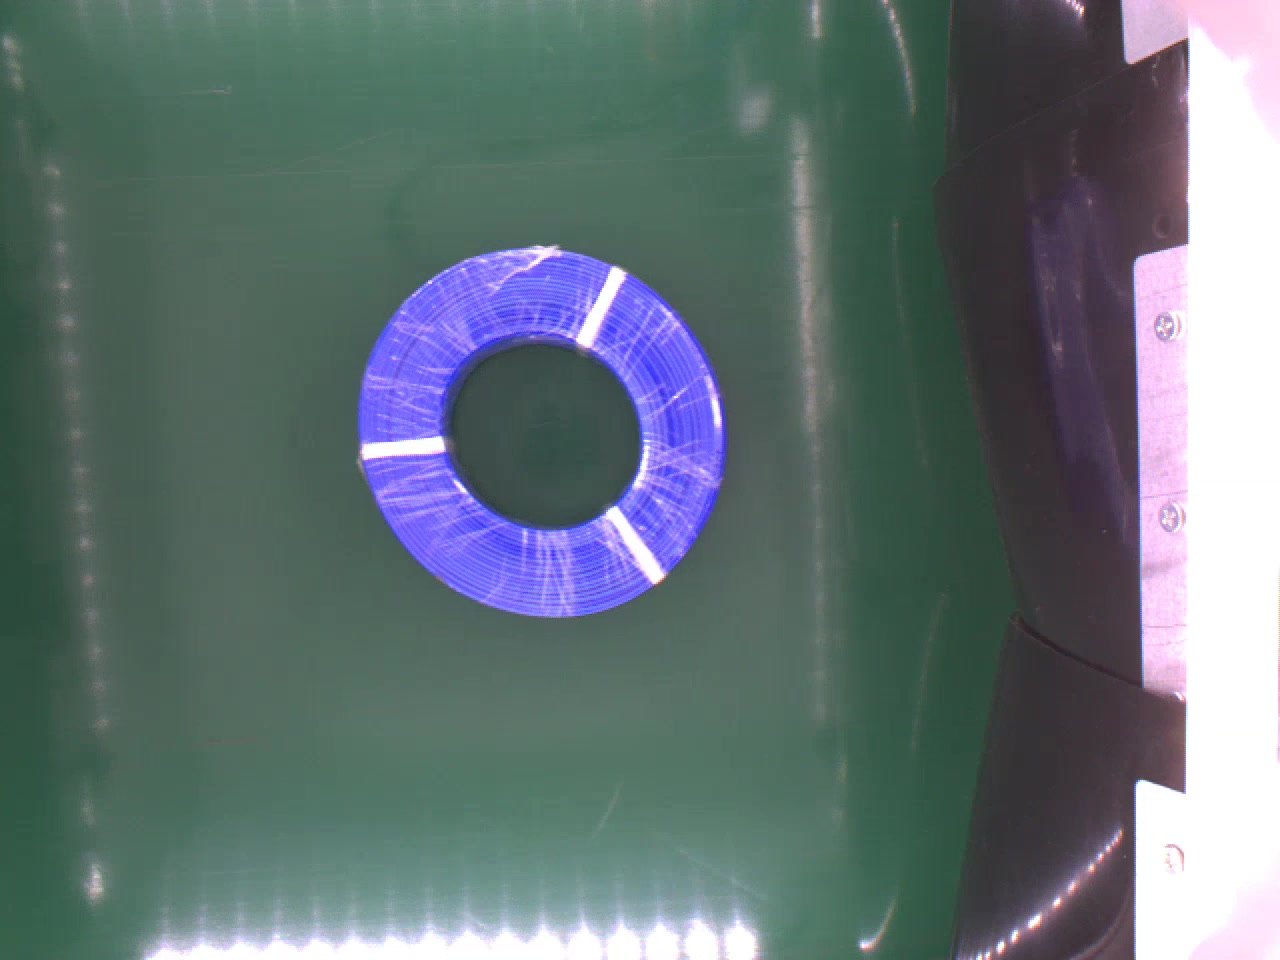blue: (356, 246, 726, 619)
